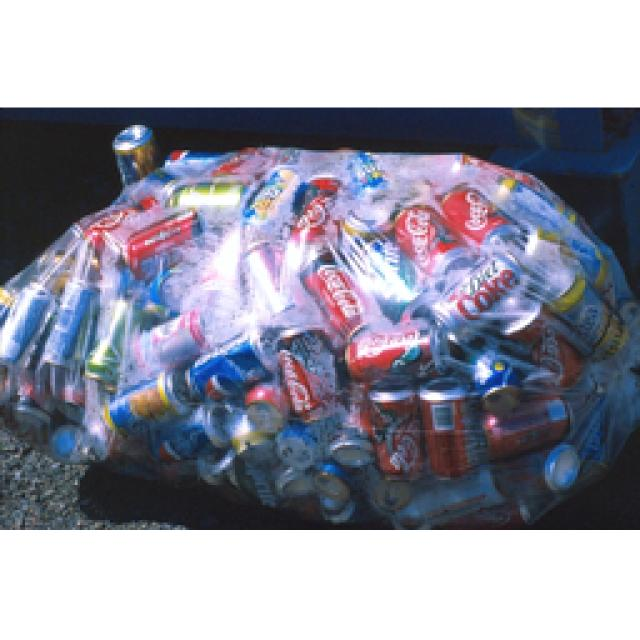inorganic: (107, 375, 185, 431), (308, 263, 365, 331)
